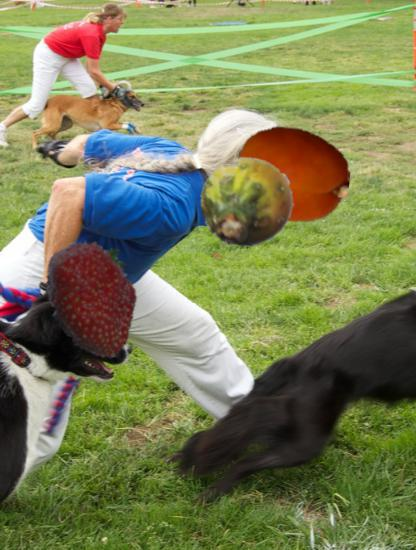Apricot: (237, 118, 350, 231)
Cactus: (200, 155, 295, 250)
Strawberry: (32, 239, 154, 361)
